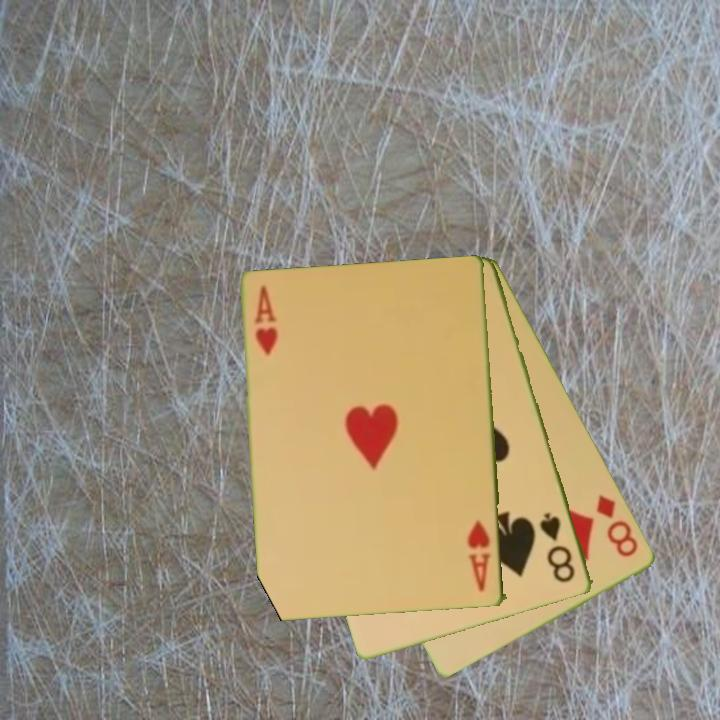8d: (593, 491, 642, 560)
8s: (536, 509, 578, 586)
Ah: (464, 517, 495, 595), (251, 282, 280, 359)
